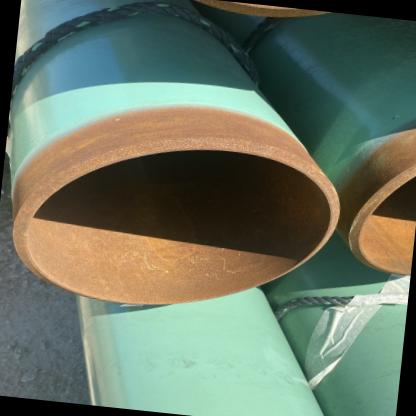clean: (166, 116, 247, 174)
